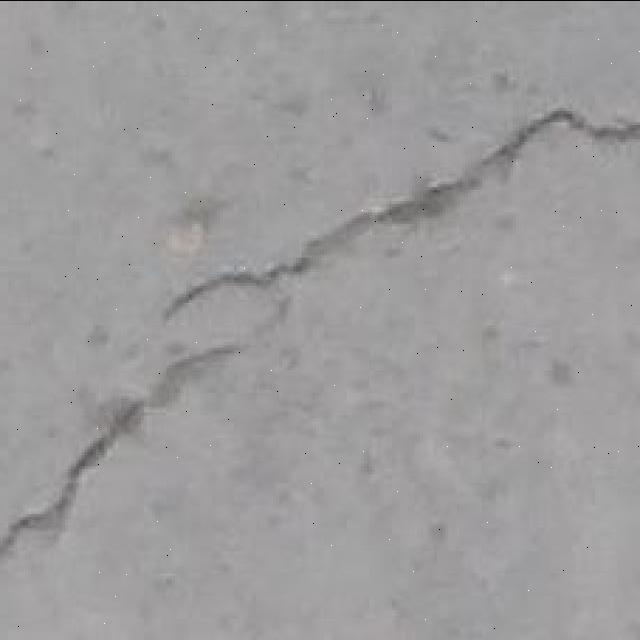crack: (2, 103, 637, 556)
